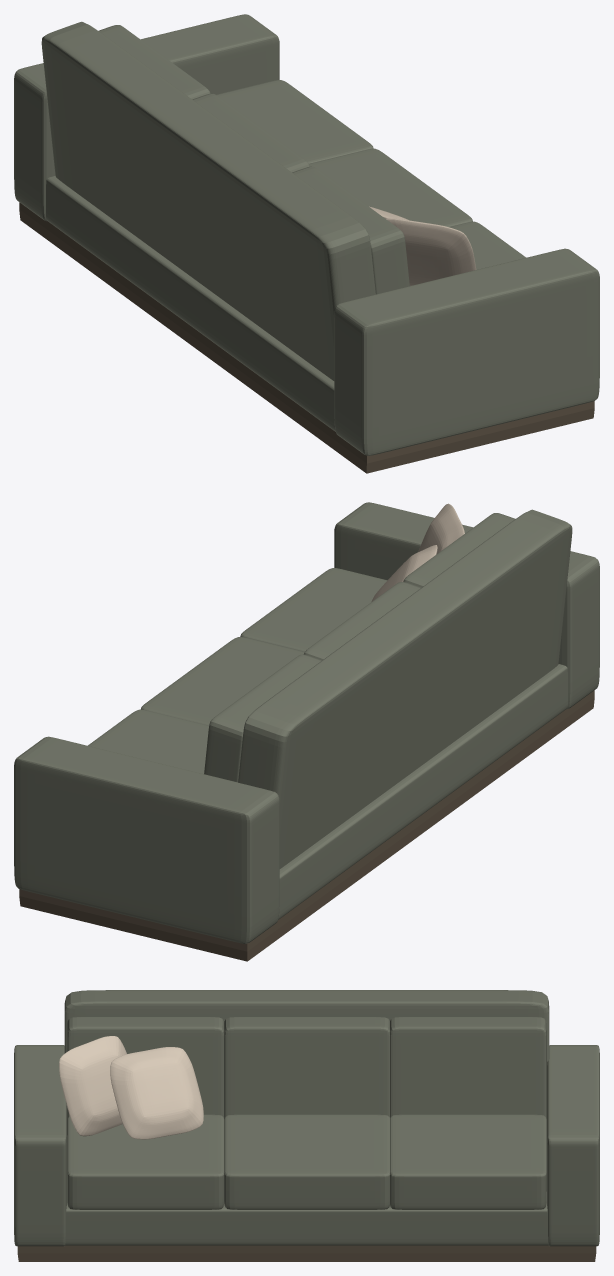
The model's file is sofa.fbx.
3 views of the same model, one above another, from view 1: azimuth 30°, elevation 25°; view 2: azimuth 150°, elevation 25°; view 3: azimuth 270°, elevation 25° (orthographic). The views are drawn at different scales.
Visible parts, largest first — view 1: Plane.002, Plane.004, Plane.001, Plane.003, Plane, Plane.005, Plane.006, Plane.008, Plane.012, Plane.009, Plane.010, Plane.007; view 2: Plane.002, Plane.003, Plane.001, Plane, Plane.004, Plane.006, Plane.007, Plane.005, Plane.010, Plane.009, Plane.008, Plane.012 (+1 smaller); view 3: Plane.001, Plane.009, Plane.006, Plane.010, Plane.005, Plane.002, Plane.007, Plane.003, Plane.004, Plane, Plane.013, Plane.008 (+1 smaller).
Part boxes in pixels (left/top/right/bottom): Plane.002: left=41, top=21, right=375, bottom=380; Plane.004: left=334, top=248, right=599, bottom=455; Plane.001: left=46, top=176, right=335, bottom=431; Plane.003: left=14, top=14, right=279, bottom=221; Plane: left=19, top=202, right=594, bottom=473; Plane.005: left=216, top=80, right=373, bottom=163; Plane.006: left=309, top=148, right=472, bottom=226; Plane.008: left=292, top=166, right=409, bottom=294; Plane.012: left=386, top=218, right=476, bottom=285; Plane.009: left=192, top=93, right=309, bottom=172; Plane.010: left=98, top=25, right=210, bottom=99; Plane.007: left=449, top=221, right=525, bottom=269; Plane.002: left=238, top=509, right=572, bottom=868; Plane.003: left=14, top=736, right=279, bottom=943; Plane.001: left=278, top=664, right=567, bottom=919; Plane: left=19, top=690, right=594, bottom=961; Plane.004: left=334, top=502, right=599, bottom=709; Plane.006: left=140, top=637, right=304, bottom=725; Plane.007: left=240, top=568, right=387, bottom=651; Plane.005: left=88, top=709, right=208, bottom=773; Plane.010: left=204, top=654, right=321, bottom=782; Plane.009: left=304, top=582, right=420, bottom=660; Plane.008: left=403, top=513, right=515, bottom=587; Plane.012: left=418, top=503, right=464, bottom=553; Plane.001: left=65, top=1135, right=548, bottom=1245; Plane.009: left=224, top=1017, right=389, bottom=1117; Plane.006: left=224, top=1114, right=389, bottom=1209; Plane.010: left=390, top=1017, right=546, bottom=1126; Plane.005: left=390, top=1114, right=546, bottom=1209; Plane.002: left=64, top=990, right=549, bottom=1134; Plane.007: left=67, top=1114, right=224, bottom=1209; Plane.003: left=547, top=1045, right=599, bottom=1246; Plane.004: left=14, top=1045, right=66, bottom=1246; Plane: left=17, top=1245, right=596, bottom=1261; Plane.013: left=110, top=1047, right=203, bottom=1139; Plane.008: left=67, top=1017, right=224, bottom=1118.
Bounding box in the file's own units: 214 × 182 × 537.
